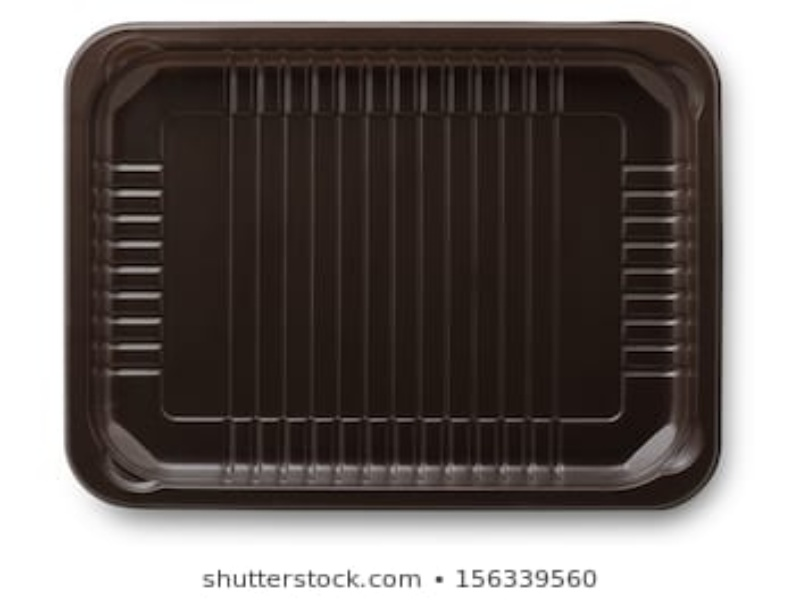plastic-tray: (50, 10, 732, 520)
